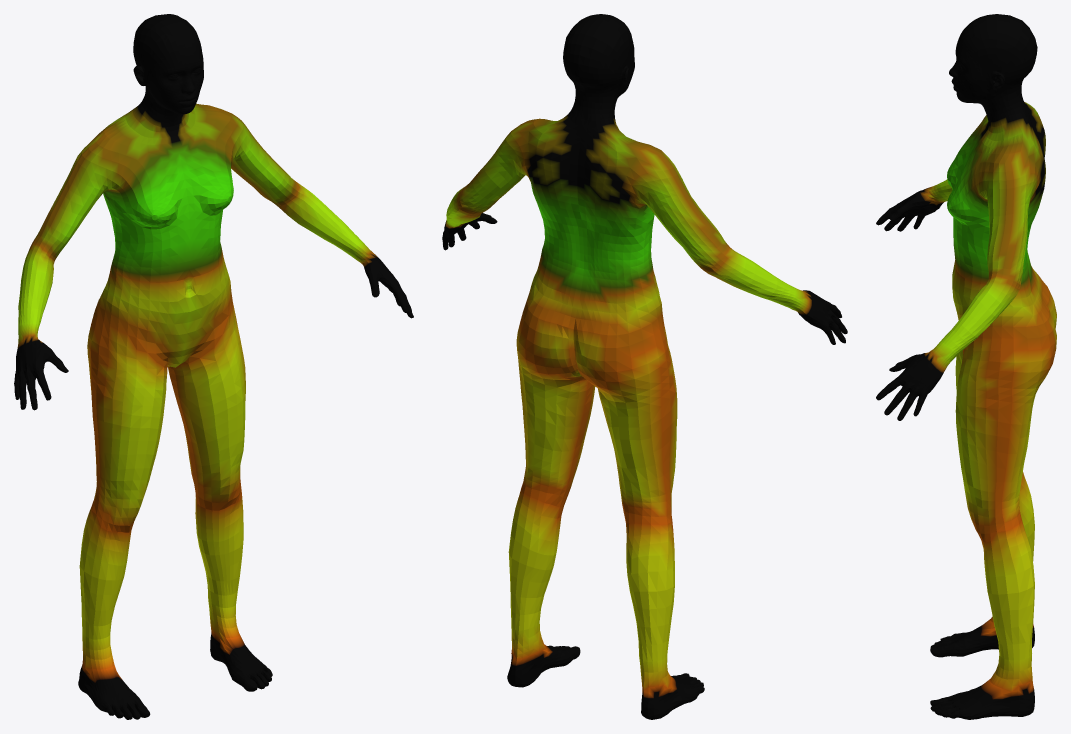
File: female-heavy.glb
The picture shows the model from 3 angles, left to right: view 1: azimuth 30°, elevation 25°; view 2: azimuth 150°, elevation 25°; view 3: azimuth 270°, elevation 25°; orthographic projection.
Visible parts, largest first — view 1: world; view 2: world; view 3: world.
Part boxes in pixels (<box>): world: <box>14,14,413,719</box>; world: <box>442,14,847,719</box>; world: <box>876,14,1056,719</box>.
Bounding box in the file's own units: 1.14 × 1.85 × 0.4554.
